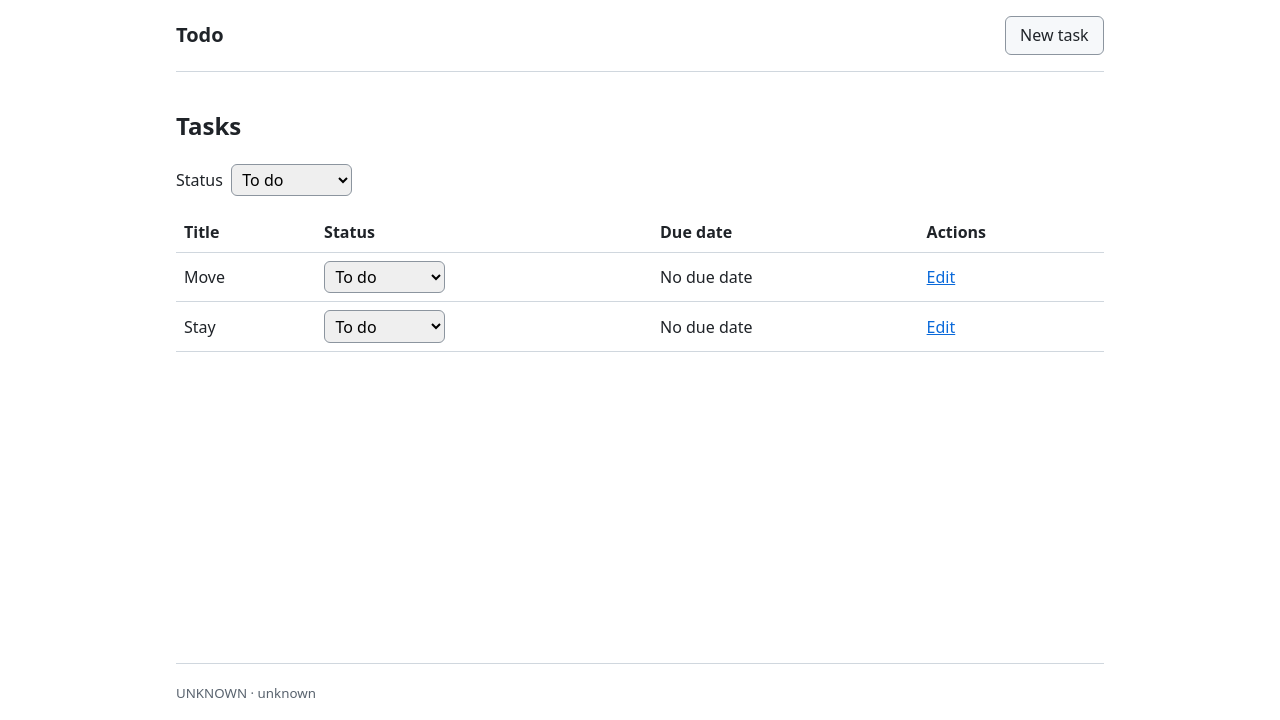
Scenario: SCRUM-6 task list status › SCRUM-6-AC-10: in a filtered list a changed task is reloaded out of the view
Select "Done" in the dropdown named "Status for Move" at (384, 277), box [324, 261, 445, 293]
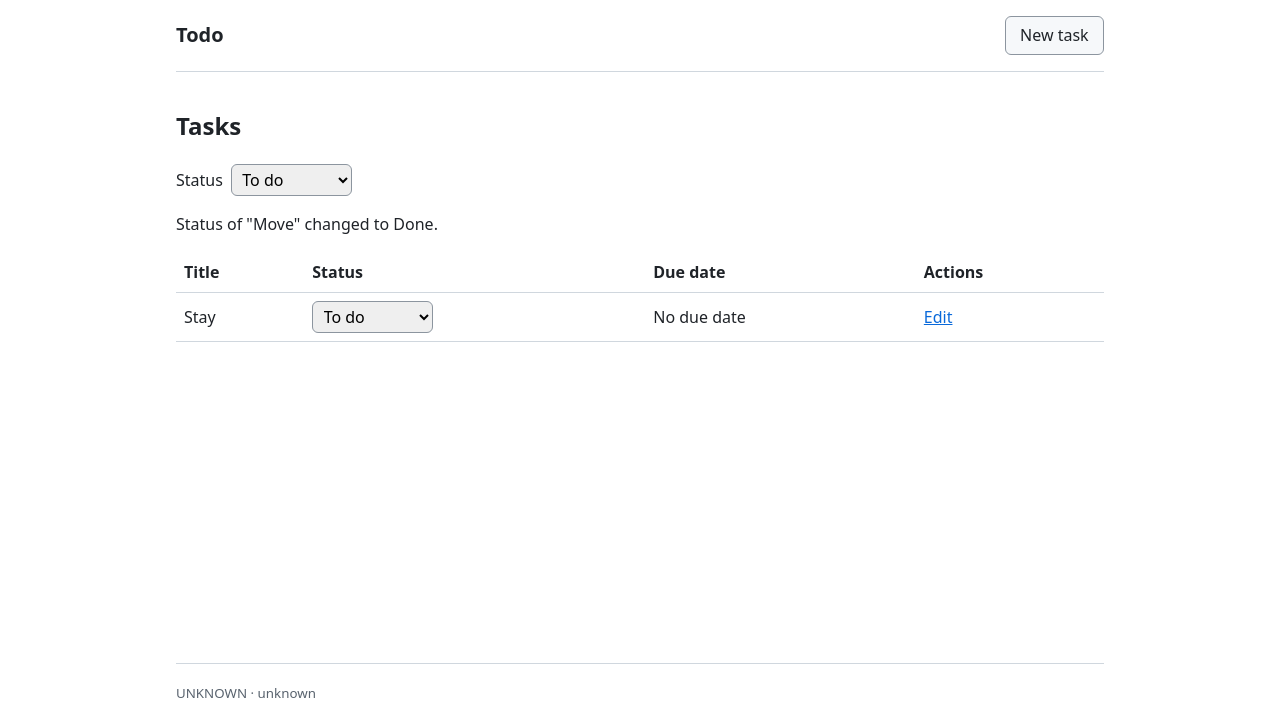
Check: the dropdown named "Status for Stay" shows "To do", box [312, 301, 433, 333]
Check: the message reads "Status of \"Move\" changed to Done.", box [176, 213, 438, 235]
